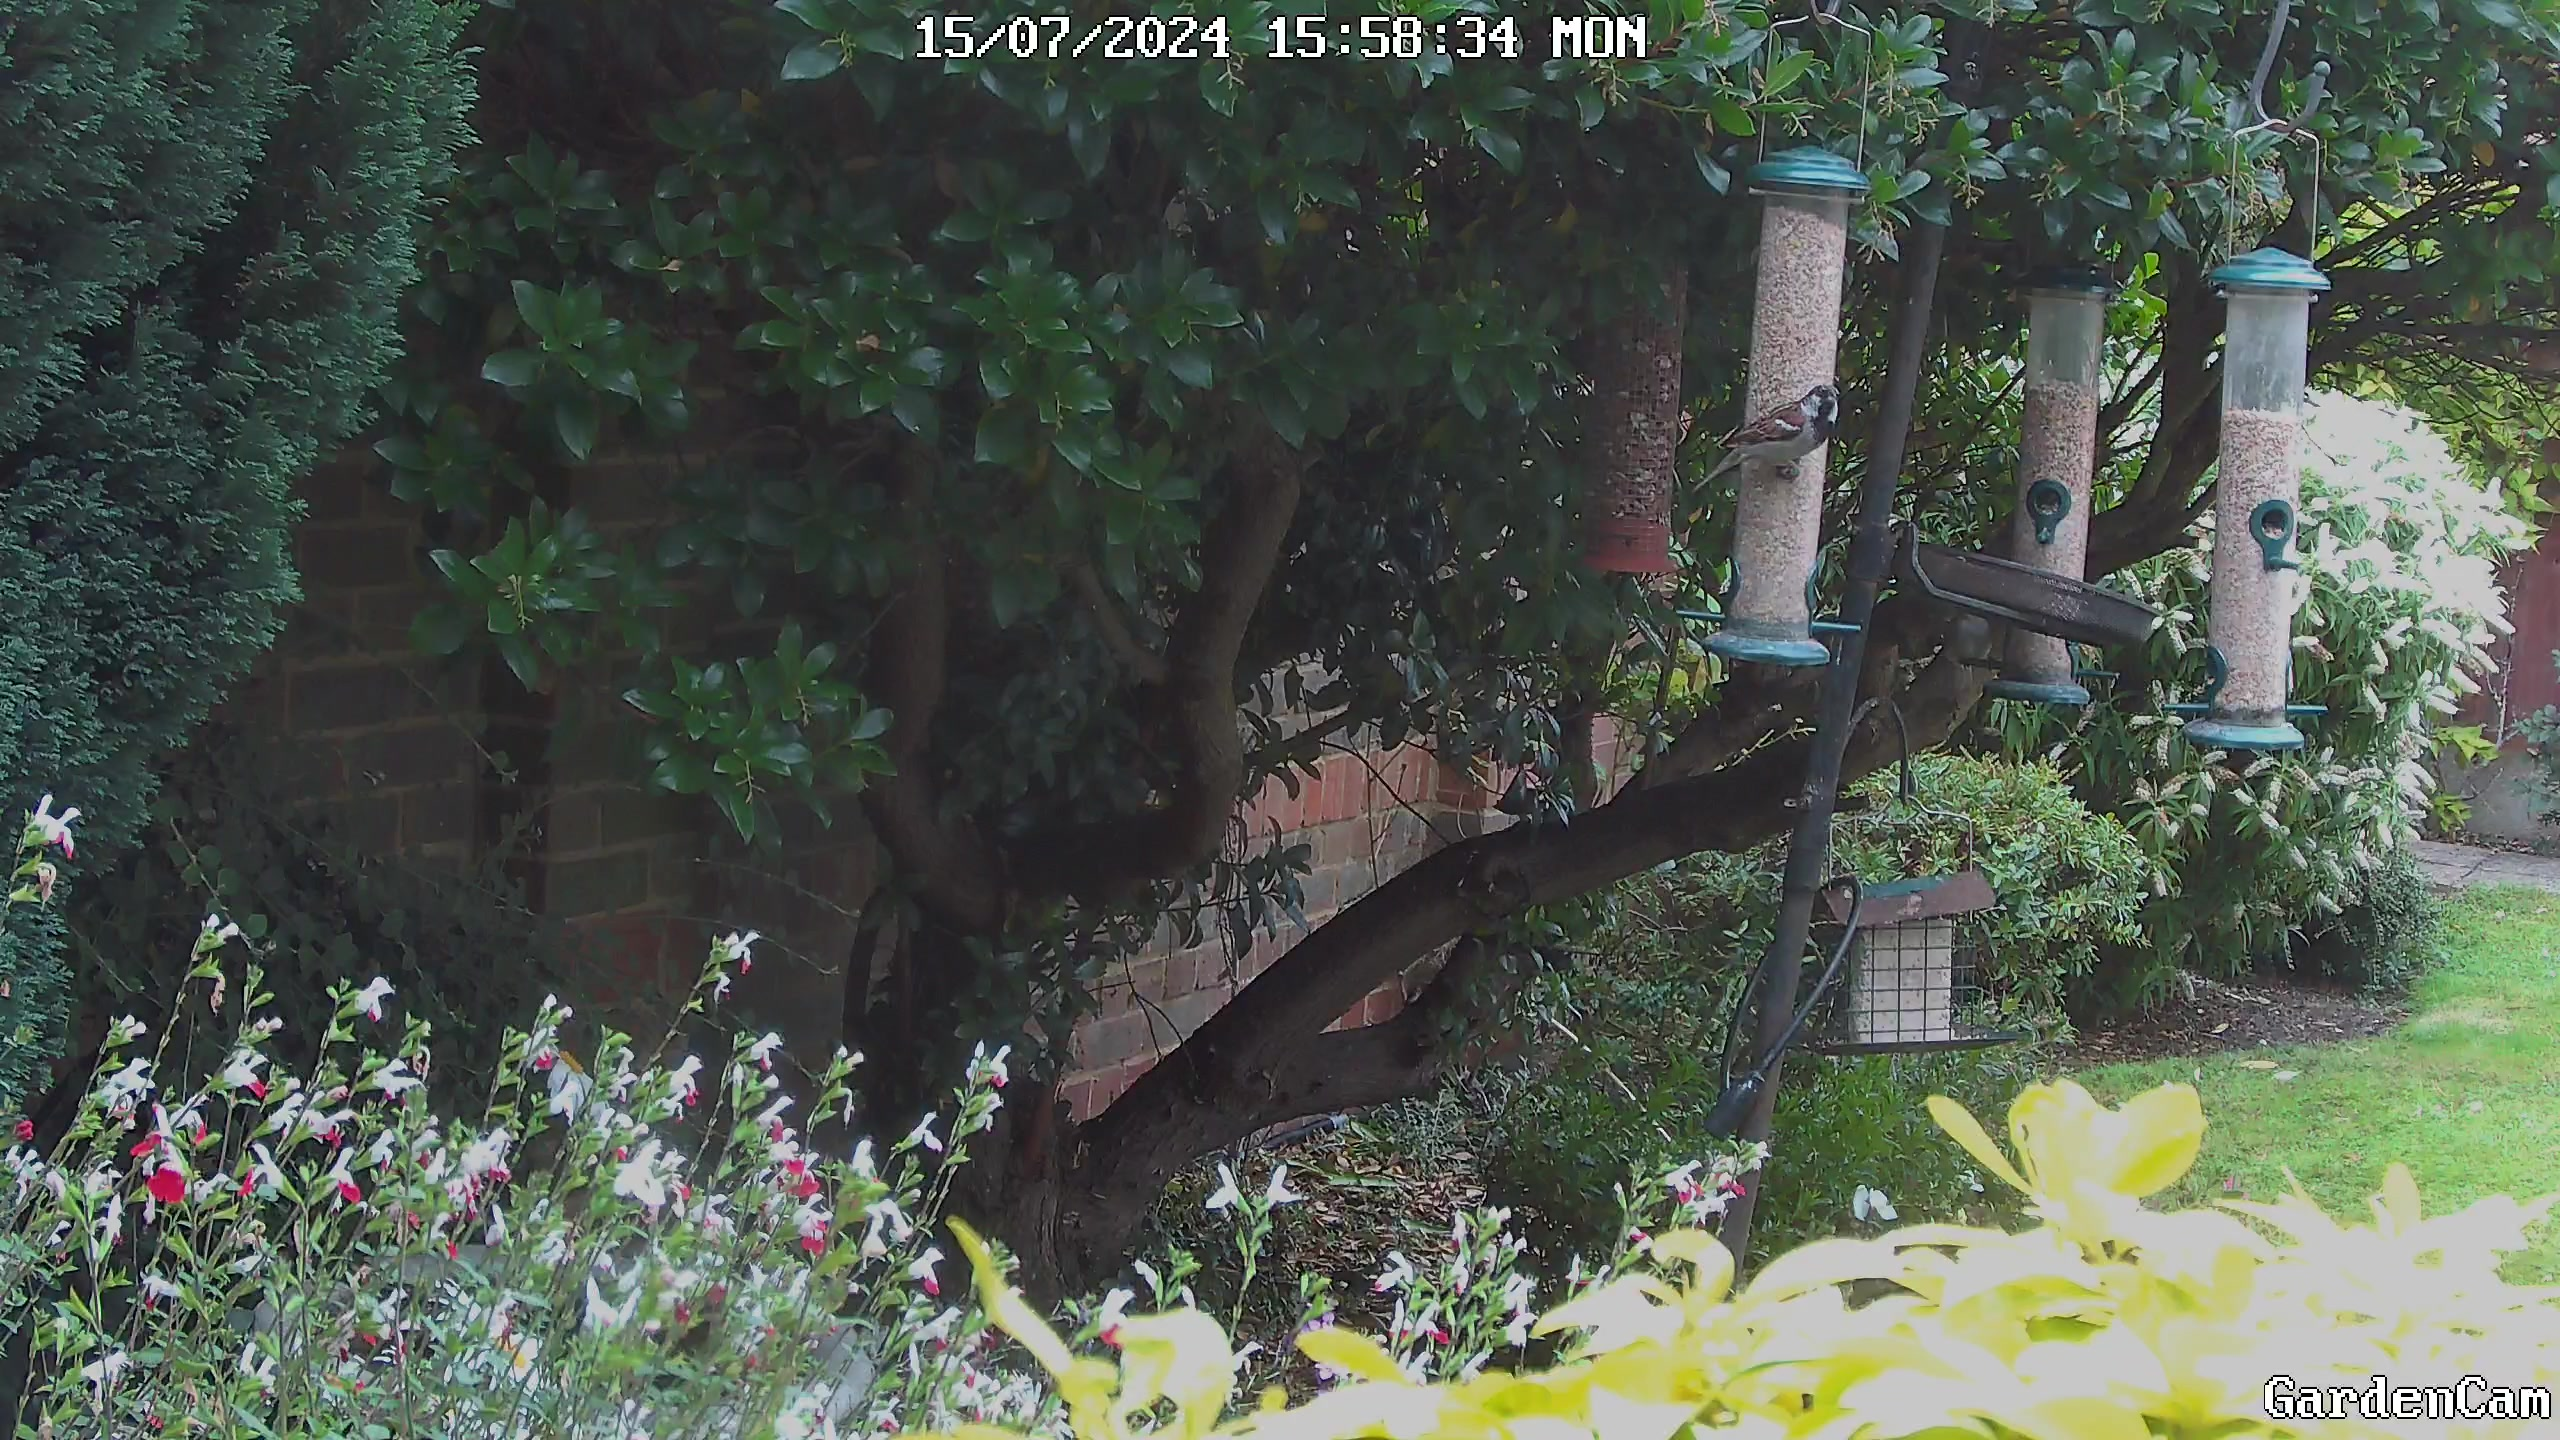House_Sparrow: (1686, 371, 1843, 515), (2163, 441, 2224, 557)
